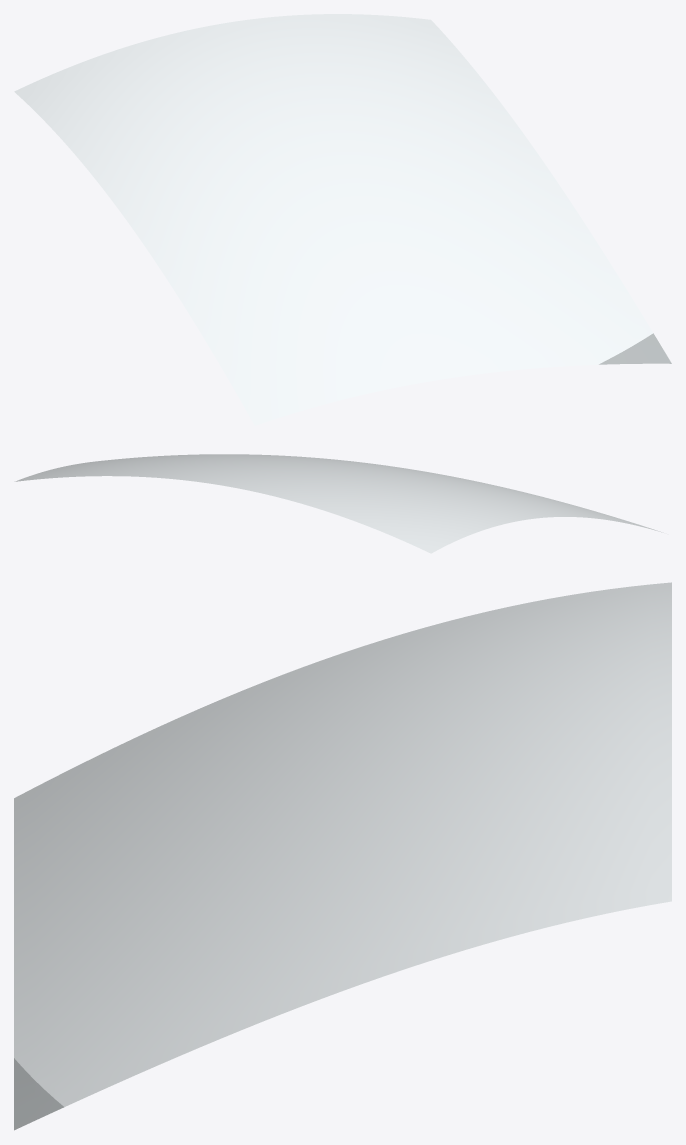
Rendered from alpine-14-10.glb.
The picture shows the model from 3 angles, top to bottom: view 1: azimuth 30°, elevation 25°; view 2: azimuth 150°, elevation 25°; view 3: azimuth 270°, elevation 25°; orthographic projection. The views are drawn at different scales.
Parts seen in each view (by area): view 1: alpine-14-10; view 2: alpine-14-10; view 3: alpine-14-10.
Boxes of the visible parts, x1,y1,x2,y2 form: alpine-14-10: [14, 14, 671, 425]; alpine-14-10: [14, 454, 663, 553]; alpine-14-10: [14, 582, 671, 1130].
Size of the model in its own units: 256 by 127 by 256.
2 materials, 2 textured.
